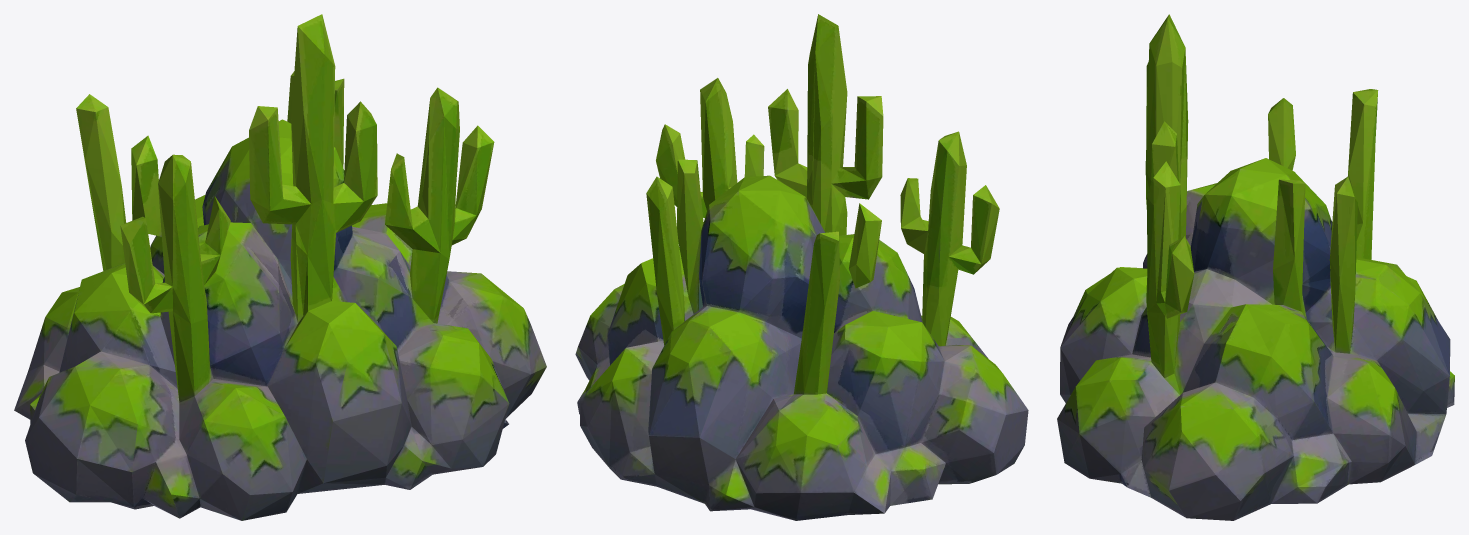
File: grass_tuft.glb
3 renders of one model, left to right at view 1: azimuth 30°, elevation 25°; view 2: azimuth 150°, elevation 25°; view 3: azimuth 270°, elevation 25°, orthographic. The views are drawn at different scales.
Bounding box in the file's own units: 1.97 × 1.72 × 1.54.
Materials: 1 (1 with a texture image).
